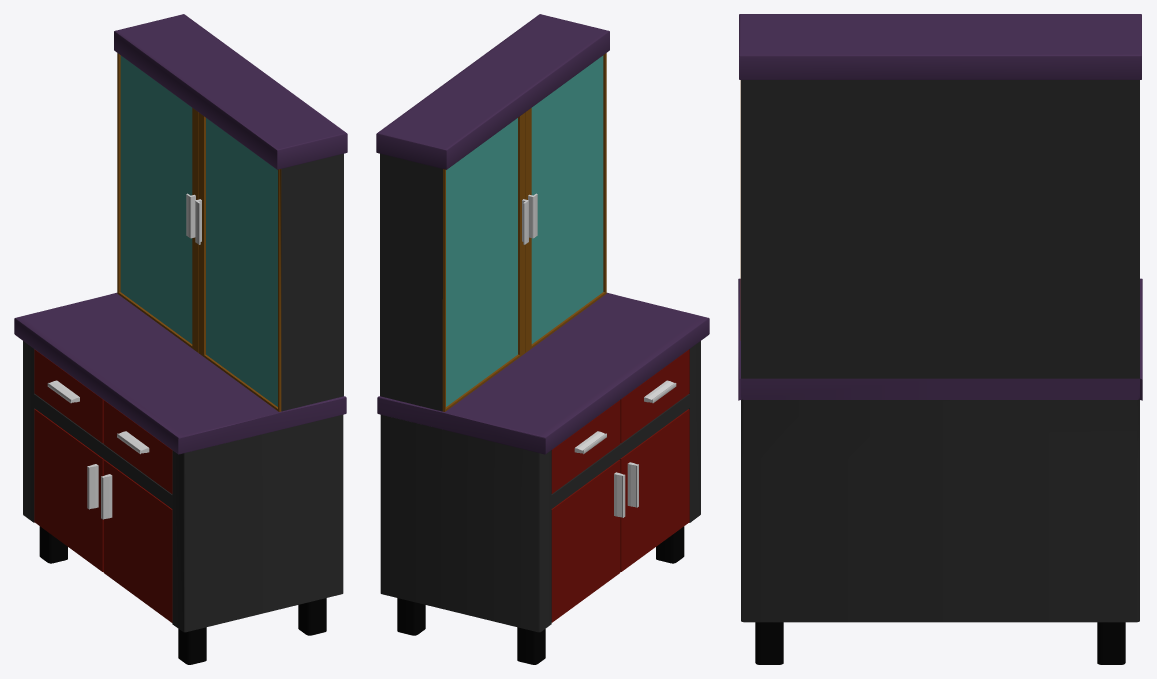
The model's file is Estanteria.fbx.
3 renders of one model, left to right at view 1: azimuth 30°, elevation 25°; view 2: azimuth 150°, elevation 25°; view 3: azimuth 270°, elevation 25°, orthographic. The views are drawn at different scales.
Visible parts, largest first — view 1: Box022; view 2: Box022; view 3: Box022.
Part boxes in pixels (x1,y1,x2,y2): Box022: (14, 14, 347, 664); Box022: (376, 14, 709, 664); Box022: (738, 14, 1142, 664).
Bounding box in the file's own units: 0.7321 × 2.03 × 1.21.
